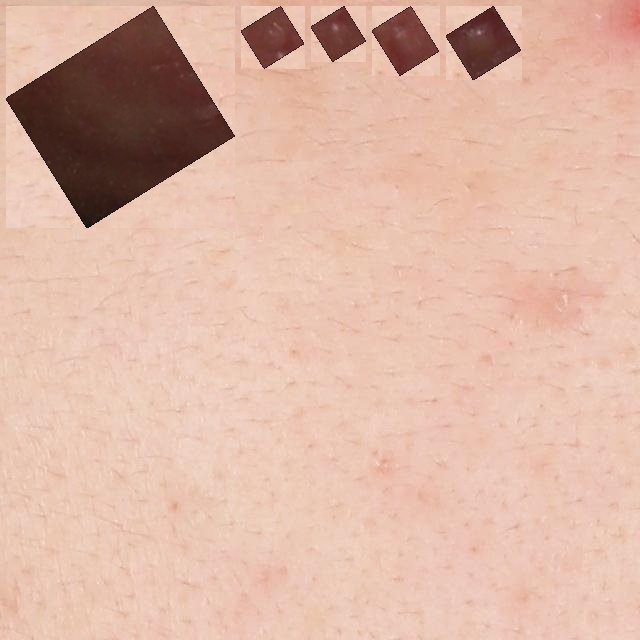hypertrophic_scar: (17, 17, 224, 217), (457, 17, 510, 69), (383, 17, 428, 64), (252, 17, 293, 57), (322, 17, 355, 50)
